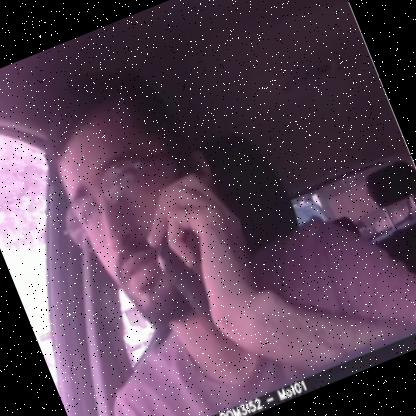phone: (136, 170, 258, 330)
